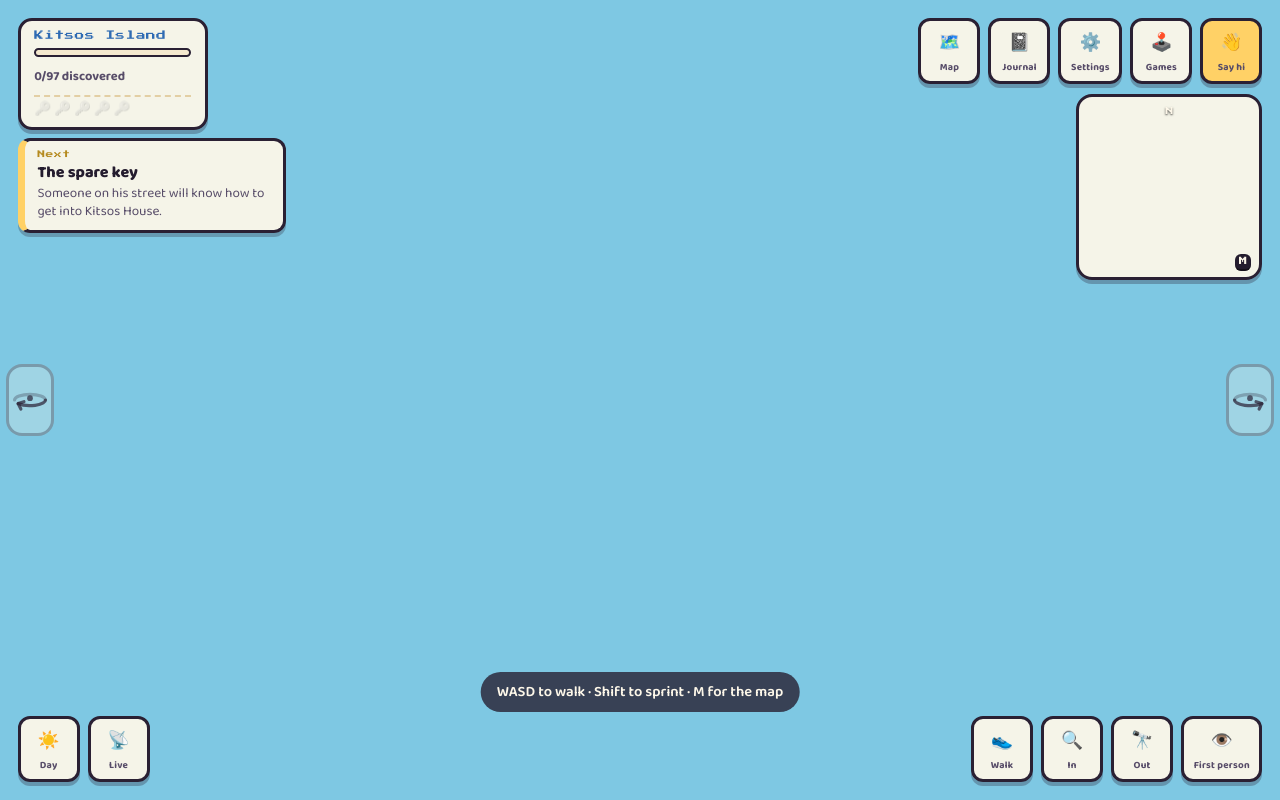
Test: the live sky on the HUD › switches on, and shows what it says out there
Expected: the button "Athens" is not shown
Click the button "📡 Live" at (119, 749), box [88,716,150,782]
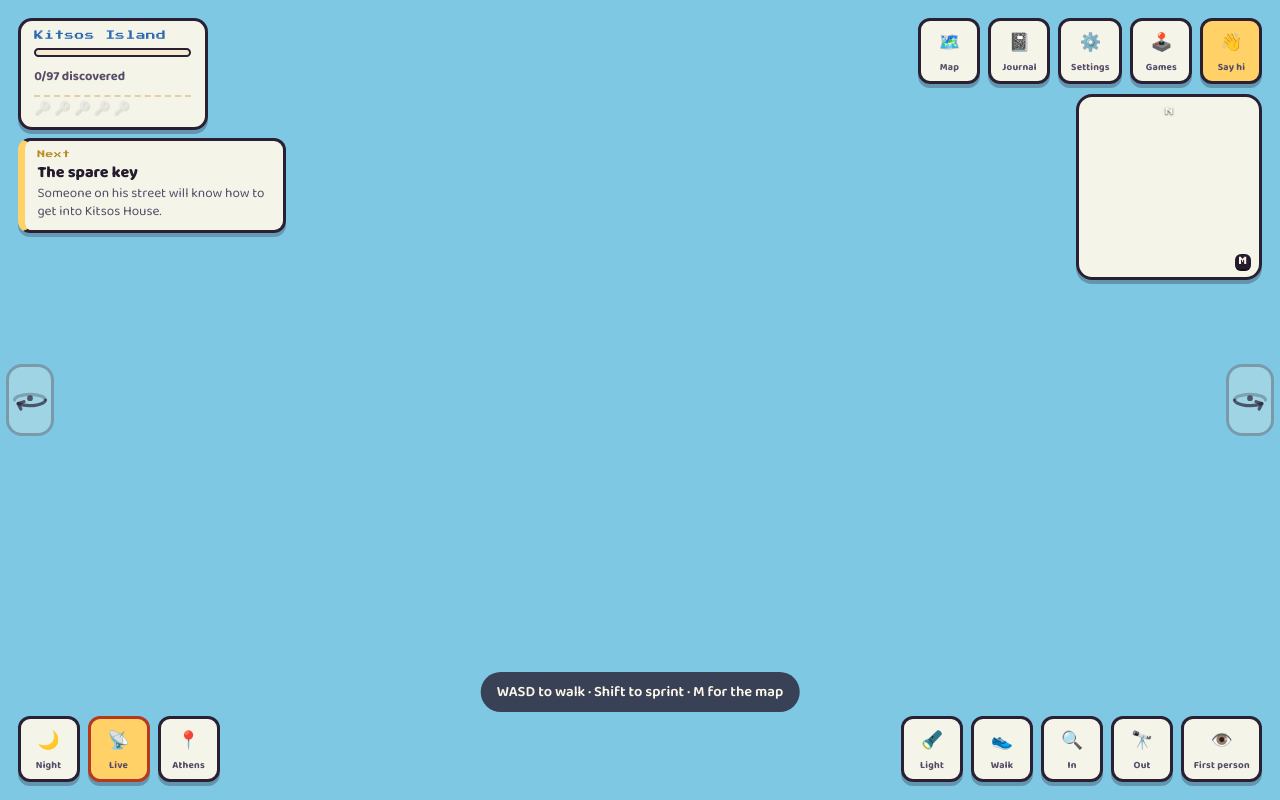
Now the button "📍 Athens" is shown, box [158,716,220,782]
